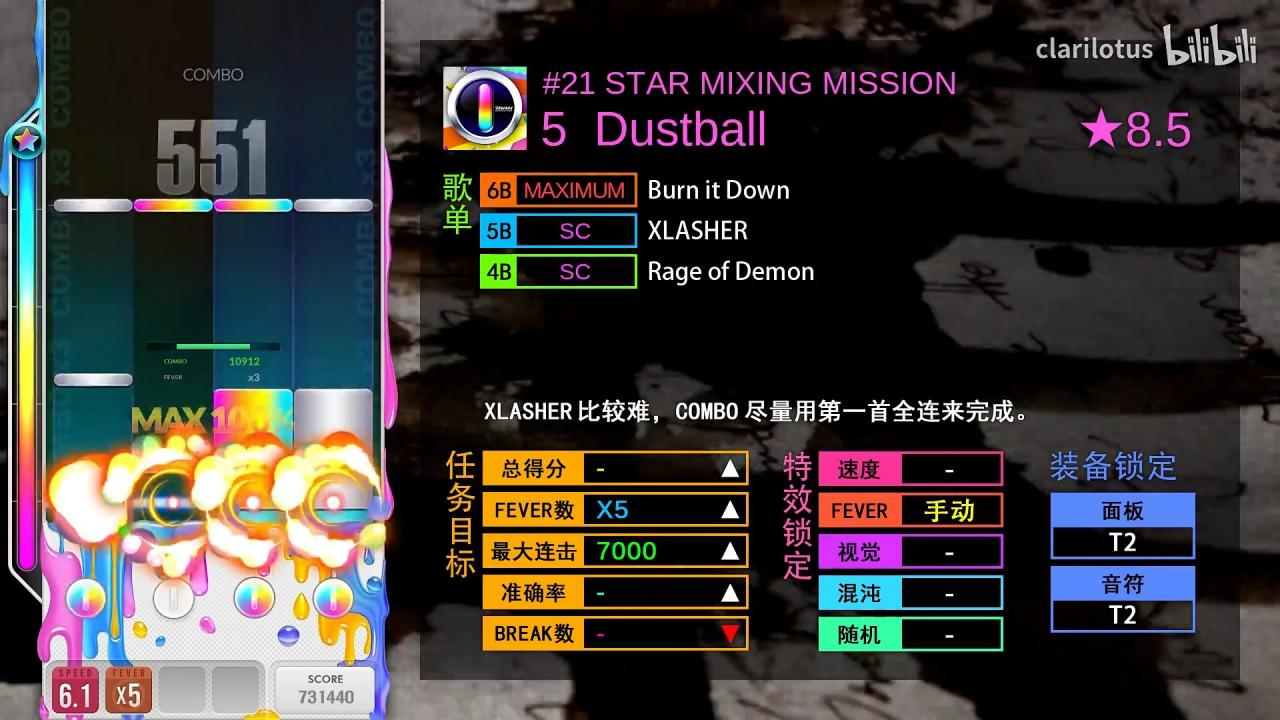hold-end: (214, 388, 294, 402), (292, 388, 372, 402)
note: (212, 198, 294, 214), (54, 372, 134, 388), (134, 198, 213, 213), (53, 198, 133, 212), (294, 199, 373, 212)
